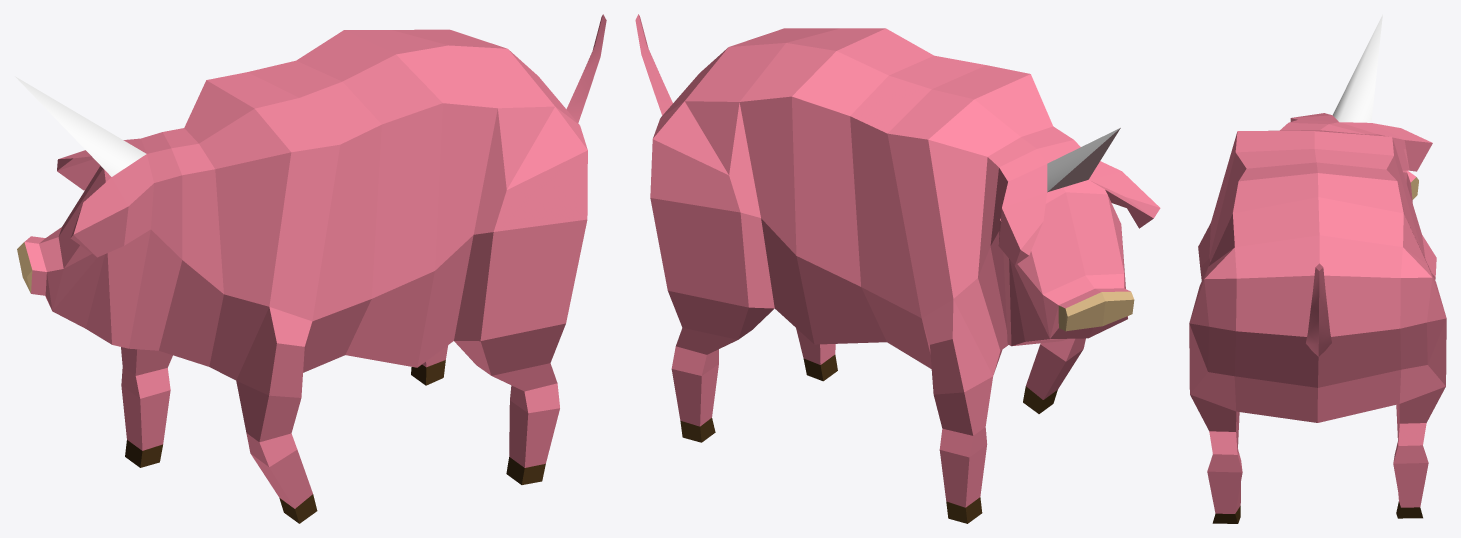
The model's file is pigRunning13.obj.
The picture shows the model from 3 angles, left to right: view 1: azimuth 30°, elevation 25°; view 2: azimuth 150°, elevation 25°; view 3: azimuth 270°, elevation 25°; orthographic projection. The views are drawn at different scales.
Parts seen in each view (by area): view 1: Pig_Cylinder.002_Pig_Cylinder.003; view 2: Pig_Cylinder.002_Pig_Cylinder.003; view 3: Pig_Cylinder.002_Pig_Cylinder.003.
Boxes of the visible parts, <box> form: Pig_Cylinder.002_Pig_Cylinder.003: <box>15,14,606,523</box>; Pig_Cylinder.002_Pig_Cylinder.003: <box>635,14,1160,523</box>; Pig_Cylinder.002_Pig_Cylinder.003: <box>1189,14,1446,523</box>.
Size of the model in its own units: 21.99 by 16.52 by 11.11.
